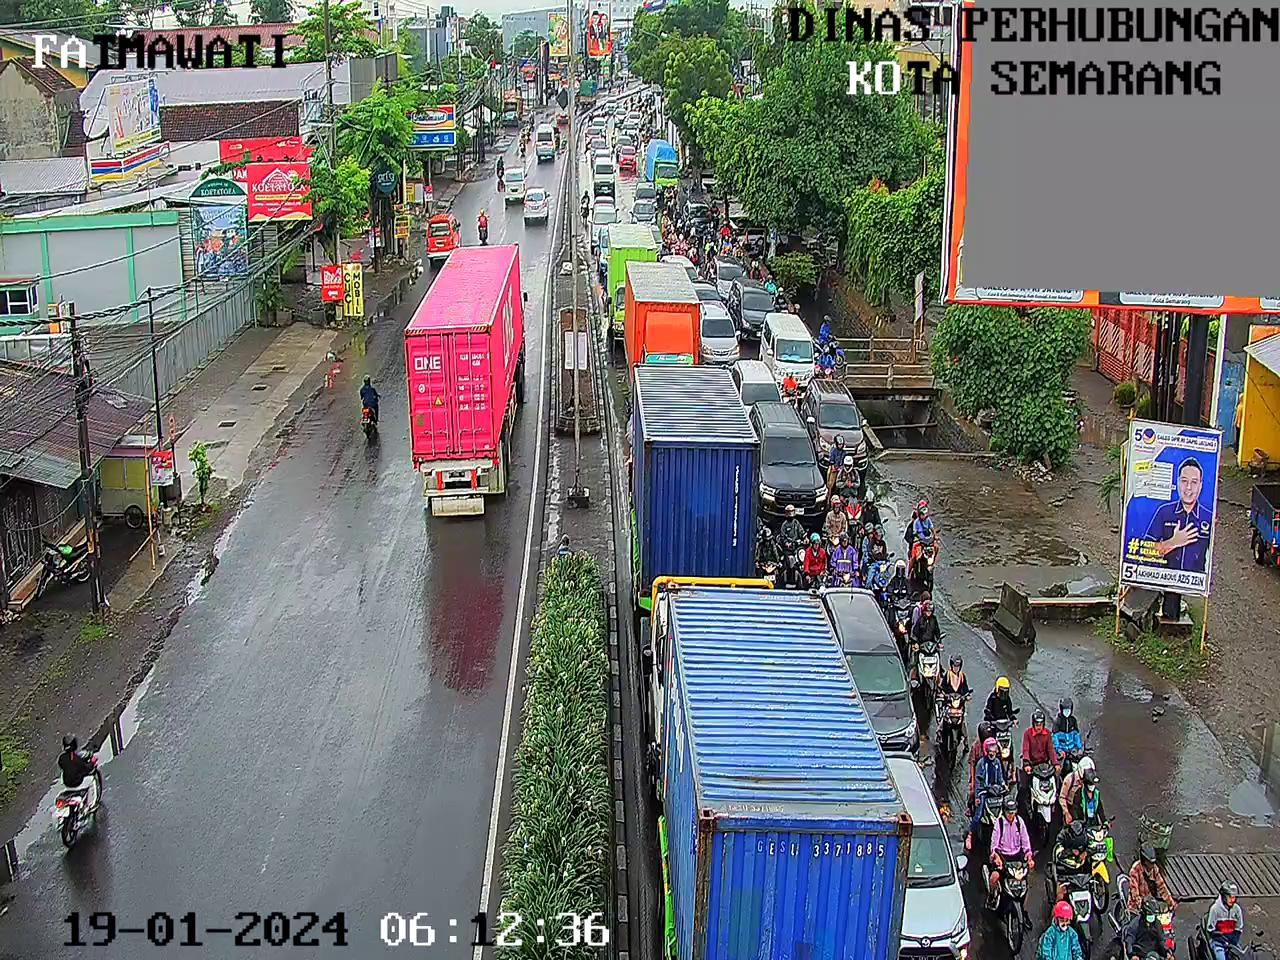car: (879, 745, 974, 960), (819, 581, 924, 761), (749, 400, 831, 528), (804, 375, 870, 478), (762, 313, 818, 393), (725, 357, 784, 419), (727, 275, 779, 345), (695, 294, 742, 365), (709, 252, 748, 301), (589, 195, 617, 252), (656, 249, 702, 283), (683, 189, 714, 237), (589, 156, 620, 197), (594, 224, 613, 275), (629, 199, 660, 228), (630, 178, 660, 208), (686, 275, 719, 303), (588, 136, 607, 166), (617, 144, 638, 171), (584, 126, 605, 149), (614, 135, 633, 158), (592, 145, 612, 166), (625, 110, 642, 132), (614, 106, 625, 127), (605, 96, 616, 115), (594, 117, 607, 130)
motorcycle: (1035, 818, 1104, 957), (980, 784, 1035, 954), (1062, 755, 1121, 908), (1118, 832, 1180, 960), (1017, 703, 1066, 847), (962, 711, 1009, 856), (1188, 877, 1271, 960), (979, 659, 1024, 779), (929, 647, 971, 772), (910, 599, 948, 712), (1033, 899, 1104, 960), (903, 498, 945, 596), (1110, 898, 1176, 960), (1048, 685, 1085, 773), (860, 518, 894, 606), (889, 554, 919, 651), (1250, 471, 1280, 568), (836, 452, 867, 543), (780, 501, 811, 589), (802, 525, 831, 593), (811, 311, 847, 365), (830, 532, 862, 588), (754, 522, 780, 586), (824, 492, 849, 559), (826, 431, 849, 496), (858, 491, 886, 542), (782, 366, 801, 406), (816, 342, 837, 378), (575, 187, 593, 223), (773, 287, 790, 320), (663, 181, 678, 213), (749, 257, 763, 288), (690, 248, 705, 278), (685, 218, 700, 246), (673, 205, 687, 235), (661, 211, 673, 240), (764, 273, 775, 303), (664, 228, 677, 252), (711, 199, 722, 227), (721, 232, 733, 256), (703, 233, 717, 255), (703, 219, 716, 242), (677, 232, 688, 255), (720, 220, 731, 242), (792, 301, 804, 321), (686, 171, 698, 190), (706, 242, 716, 263), (730, 229, 739, 248), (632, 130, 641, 149), (733, 241, 743, 258), (741, 255, 750, 272), (609, 131, 618, 148), (643, 93, 653, 107), (650, 125, 661, 137), (639, 123, 647, 139), (641, 107, 648, 125), (648, 109, 654, 127), (646, 125, 651, 143), (622, 95, 628, 109), (587, 112, 593, 126), (637, 101, 645, 111), (647, 99, 653, 109), (630, 99, 636, 109), (601, 104, 606, 116), (628, 94, 635, 102), (638, 92, 643, 101)
truck: (658, 583, 914, 960), (619, 357, 777, 748), (616, 258, 708, 385), (599, 208, 661, 346), (637, 137, 684, 196)
